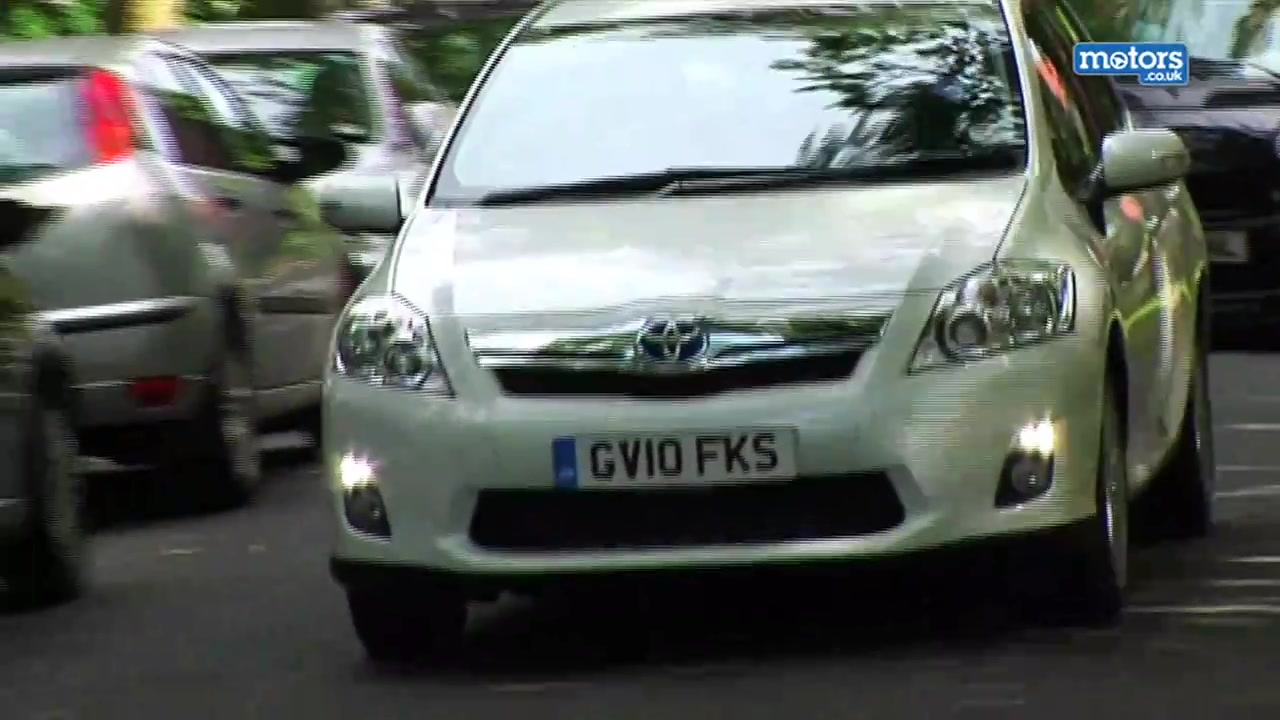car: (317, 2, 1216, 680), (1, 33, 355, 494), (149, 15, 461, 299), (1083, 1, 1280, 349), (1, 169, 99, 622)
